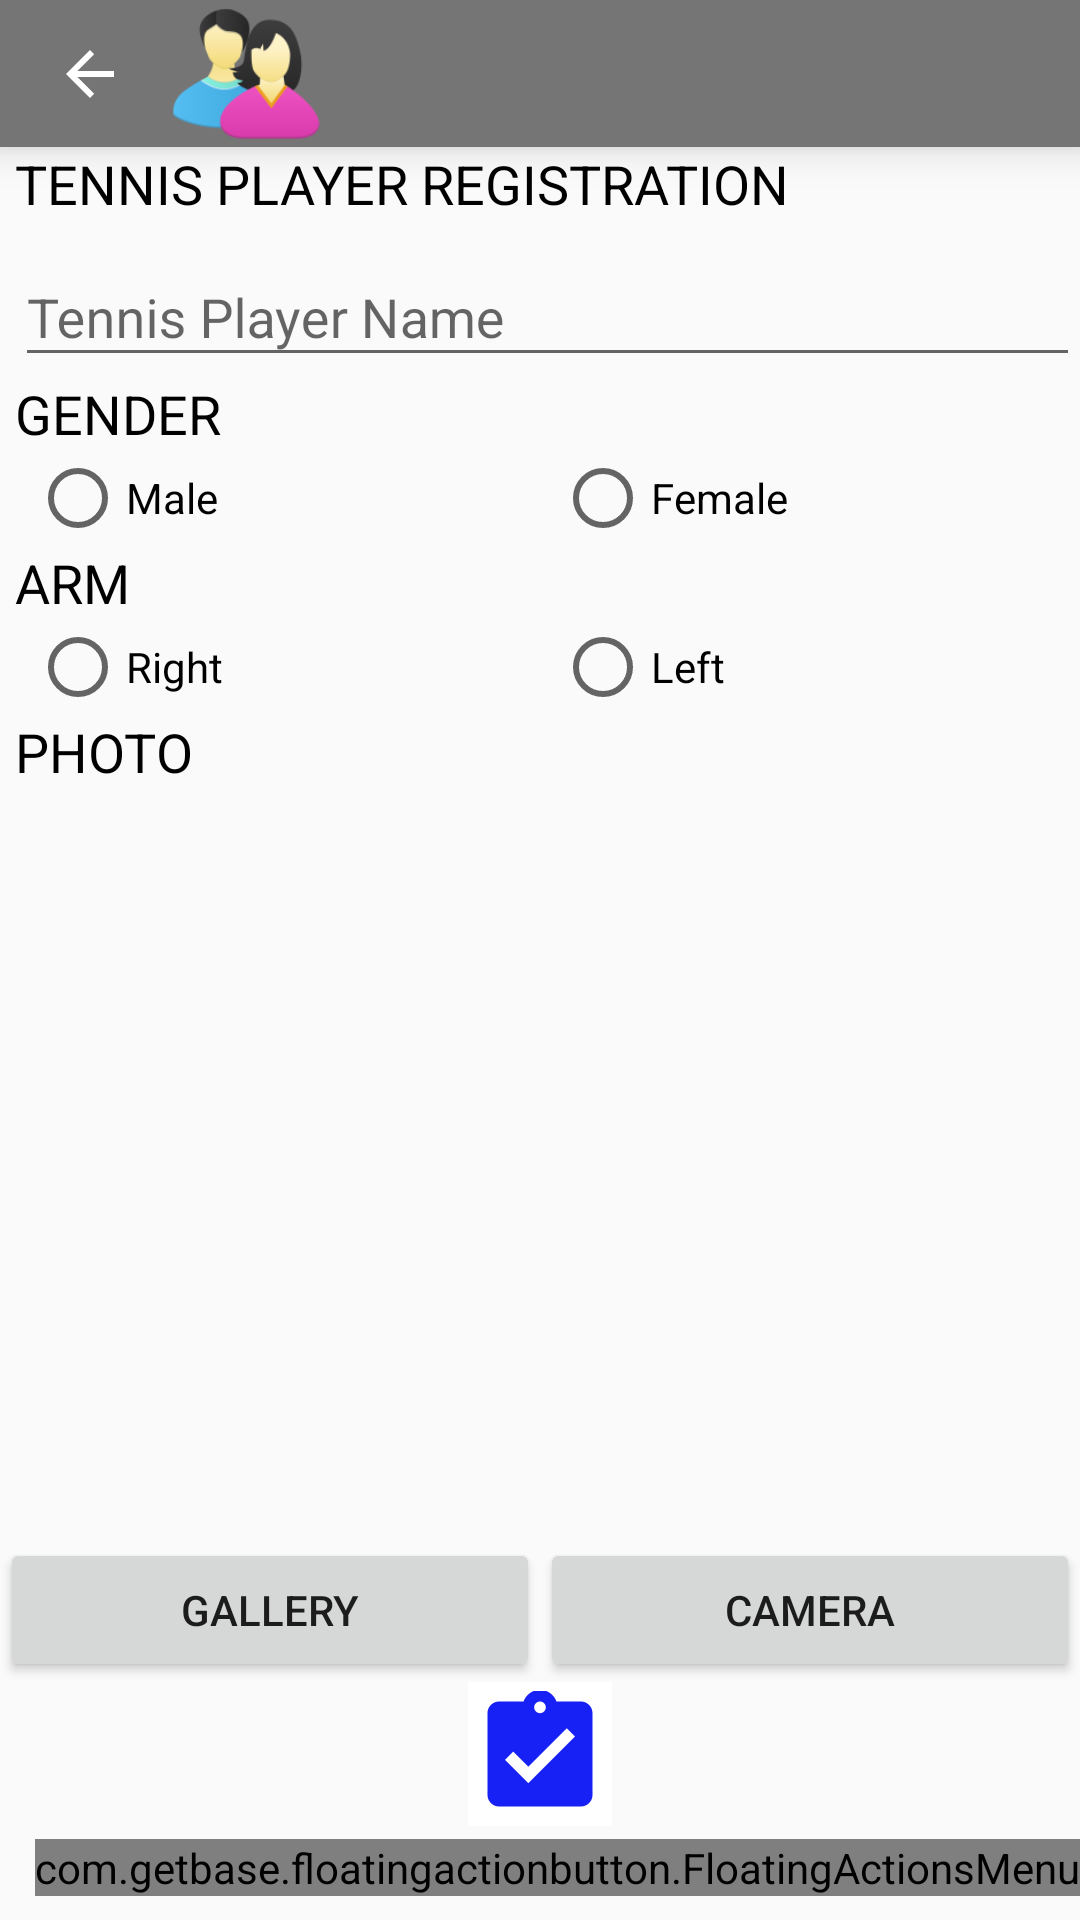

Where icons sit on this 1080w x 1920h app screen, as bbox=[x1, y1, x2, y2]:
confirmacion: bbox=[487, 1691, 593, 1807]
parejatenis: bbox=[173, 9, 320, 139]
